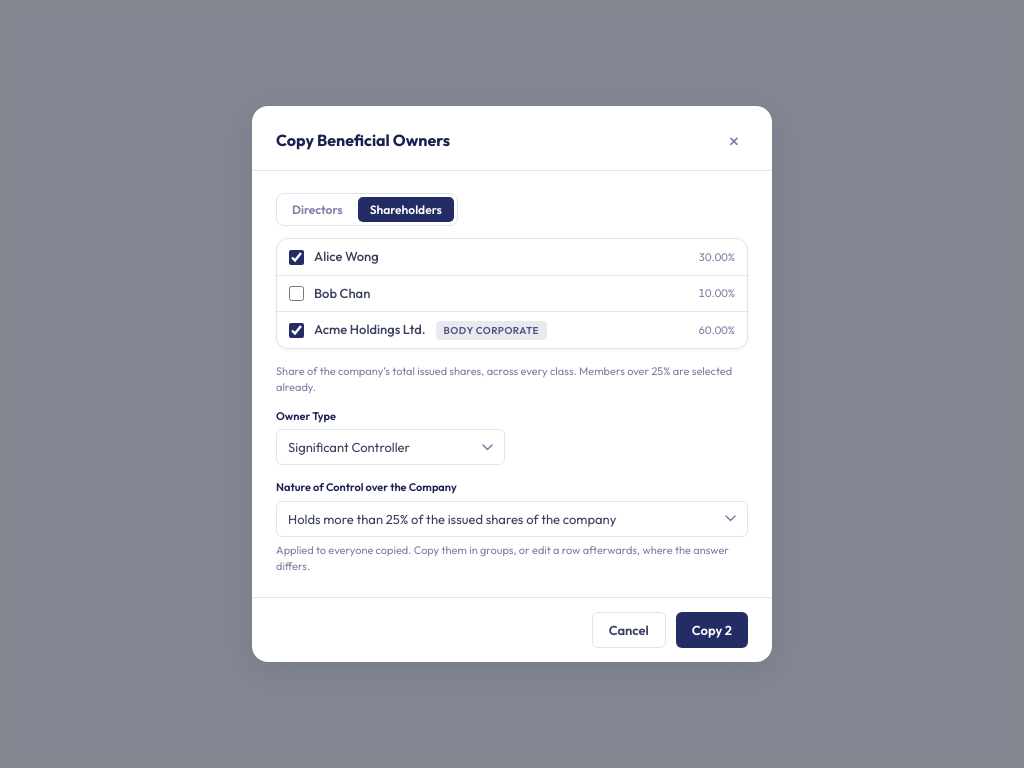
Test case: CopyPartiesModal › refuses an empty selection rather than posting nothing
The width and height of the screenshot is (1024, 768).
Expected: the text "Alice Wong" is shown, [314,247,379,267]
Click the checkbox labelled "Alice Wong 30.00%".
click(296, 257)  # box [289,250,304,264]
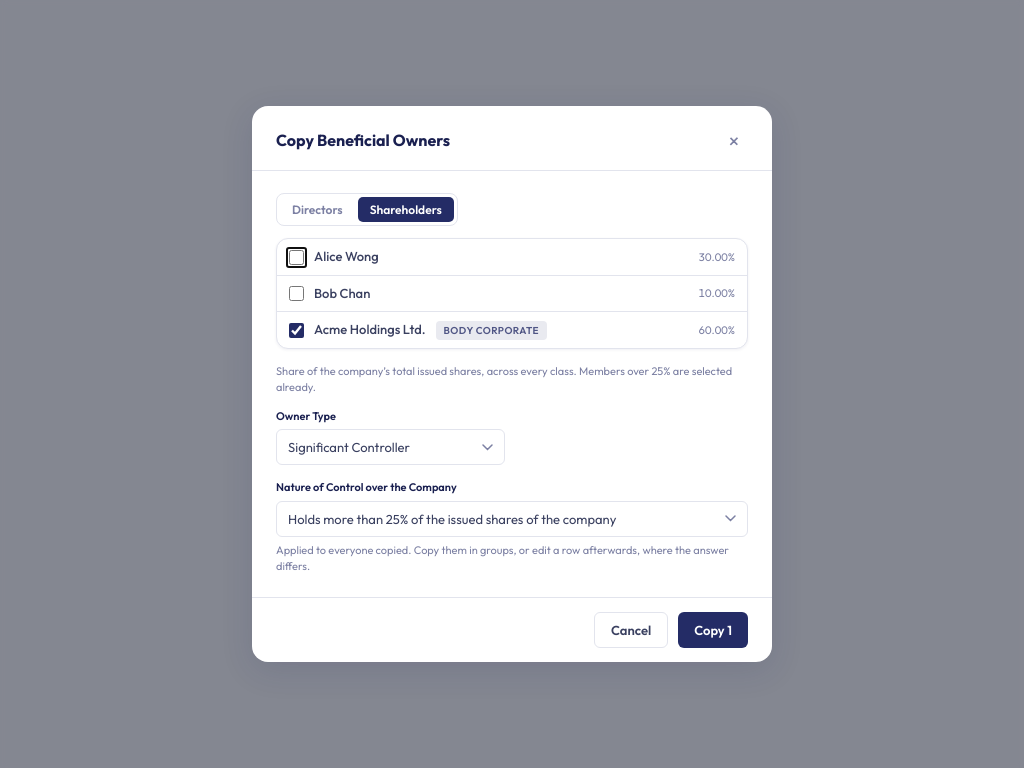
Click the checkbox labelled "Acme Holdings Ltd. Body Corporate 60.00%".
click(296, 330)  # box [289,322,304,338]
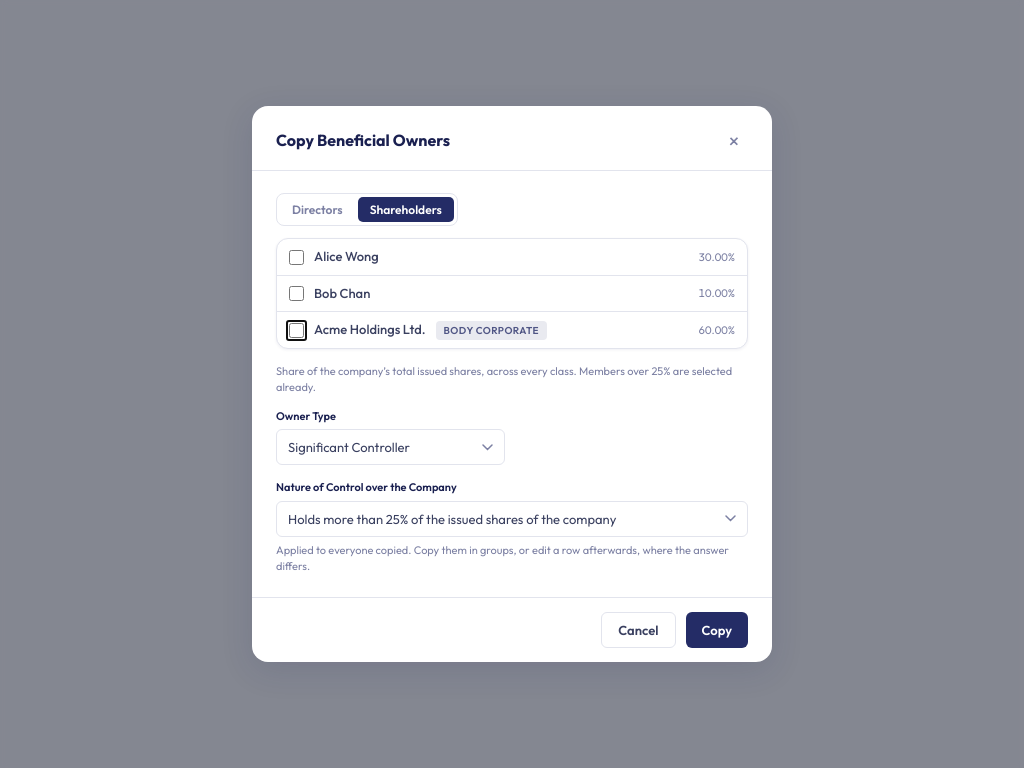
Click the button "Copy".
click(717, 630)  # box [686,612,748,648]
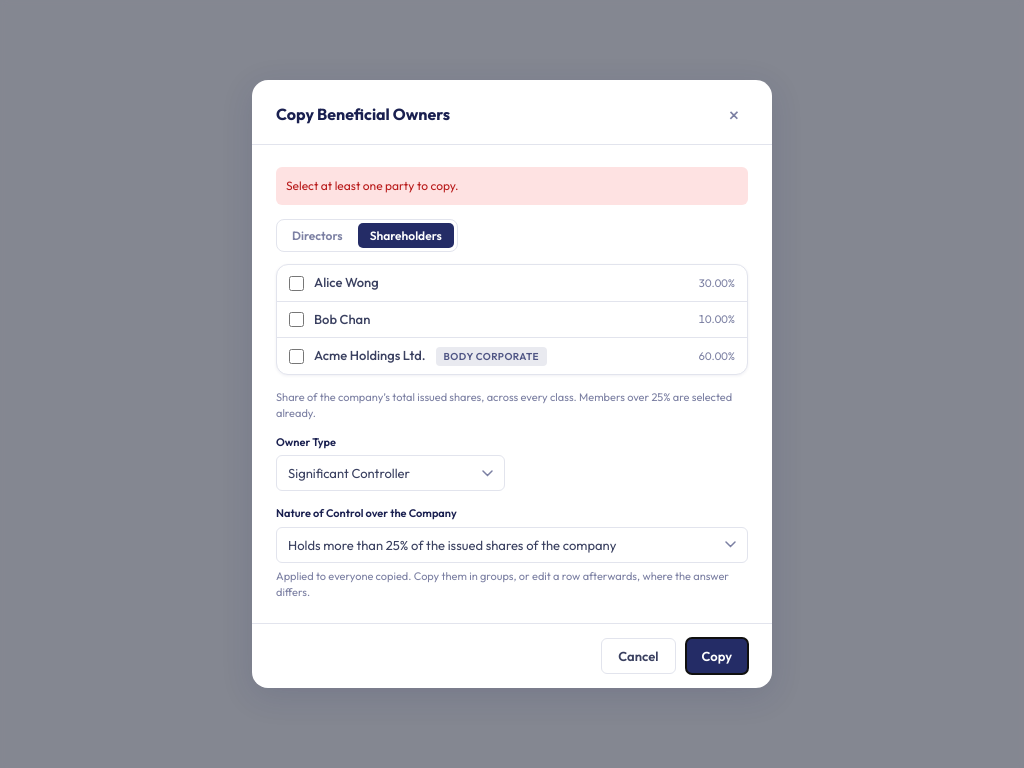
Expected: the text "Select at least one party to copy." is shown, [276,167,748,205]
